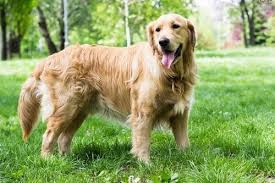Bulldog: (17, 7, 202, 167)
